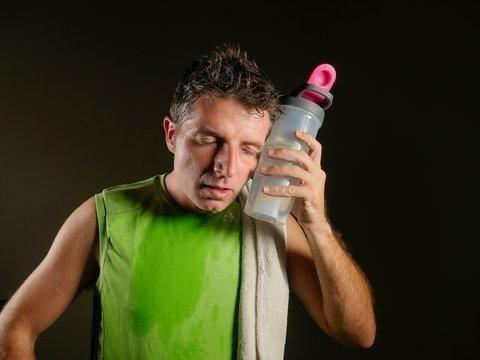gym bottle: (242, 67, 335, 226)
